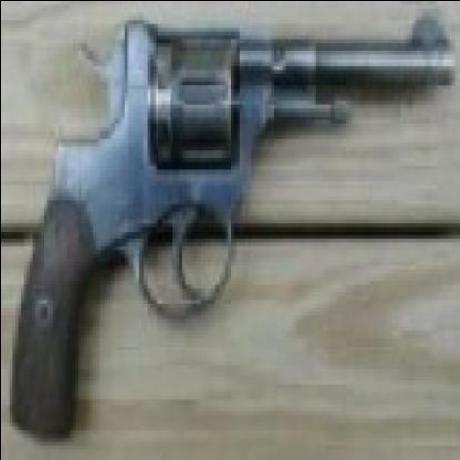weapon: (8, 12, 452, 438)
